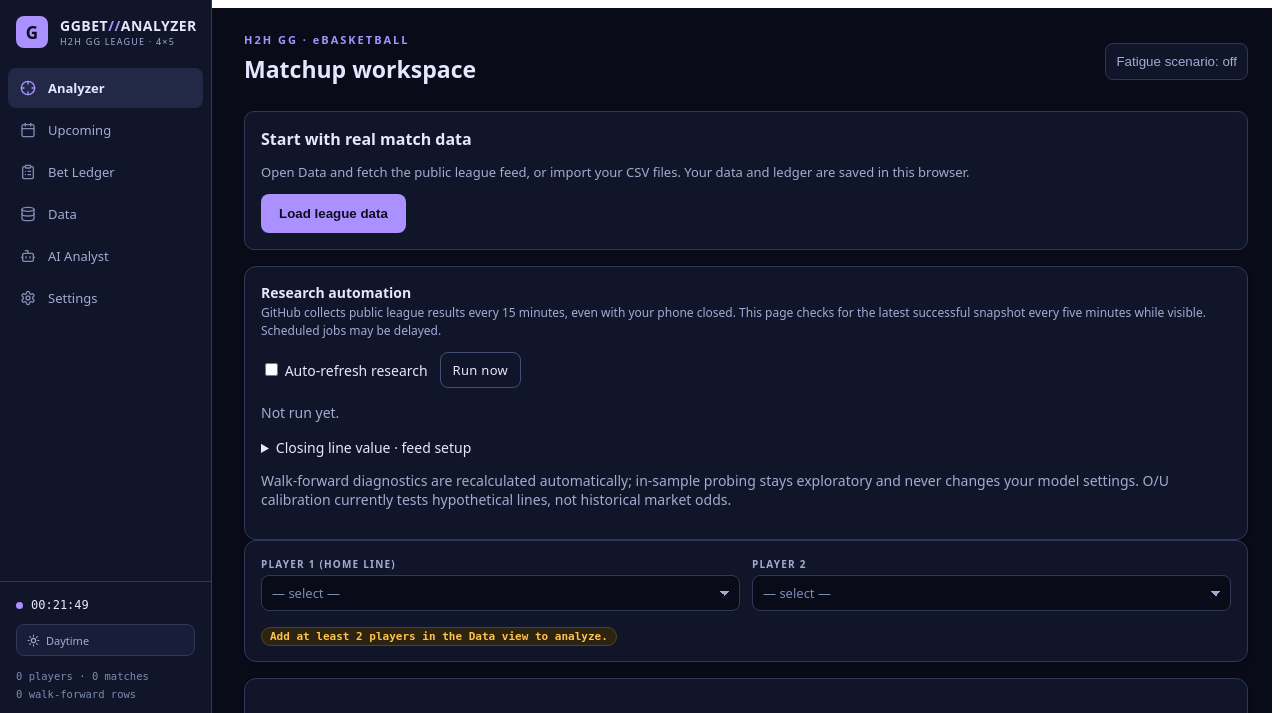
Scenario: app shell › opens the Settings view with key entry and data-source status
This screenshot has width=1280, height=713.
Click the button "Settings" at {"x": 106, "y": 298}, box [8,278,203,318]
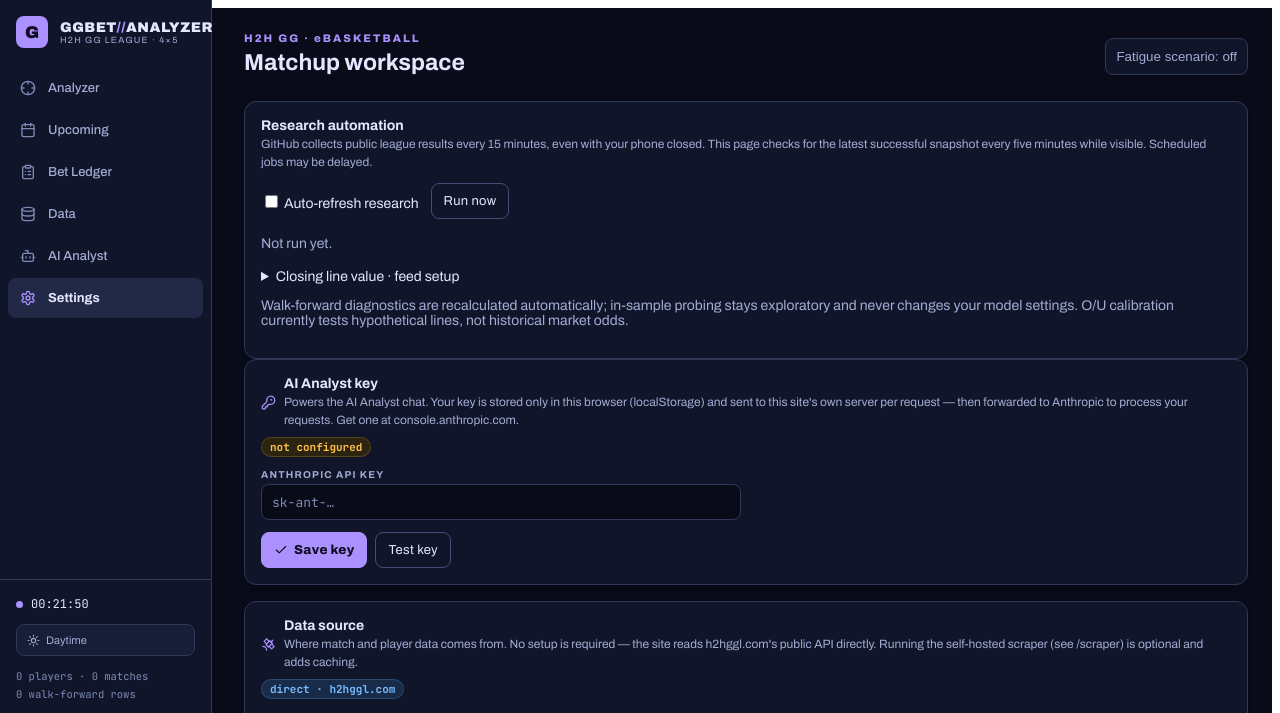
Now the text "AI Analyst key" is shown, box [284,376,378,391]
Now the password field named "Anthropic API key" is shown, box [261,484,741,520]
Now the text "direct · h2hggl.com" is shown, box [261,679,404,699]
